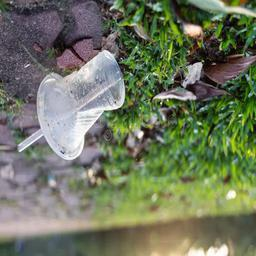plastic: (18, 50, 125, 160)
